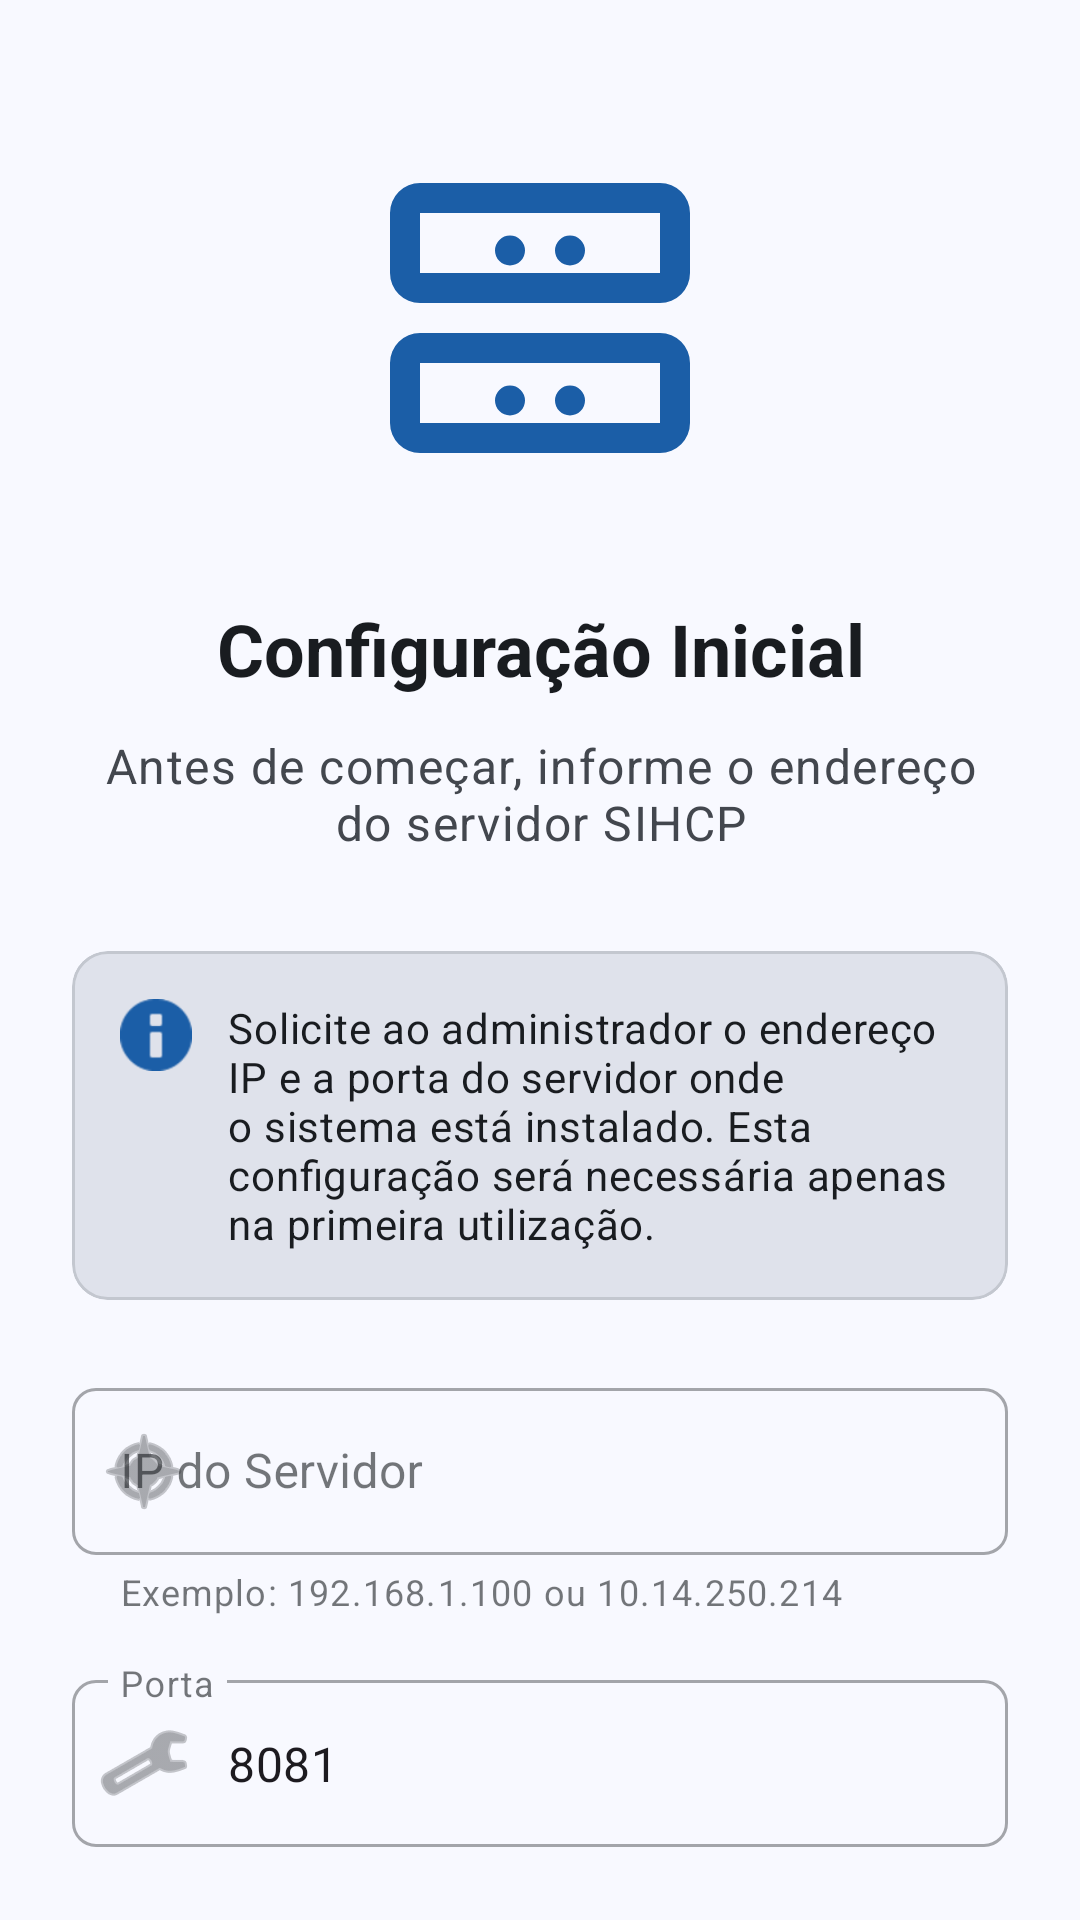

Icons on this 1080×1920 Android screen, each with its box as (x1, y1, x2, y2):
Ícone de configuração de servidor: (390, 183, 690, 453)
Ícone de informação: (120, 999, 192, 1071)
